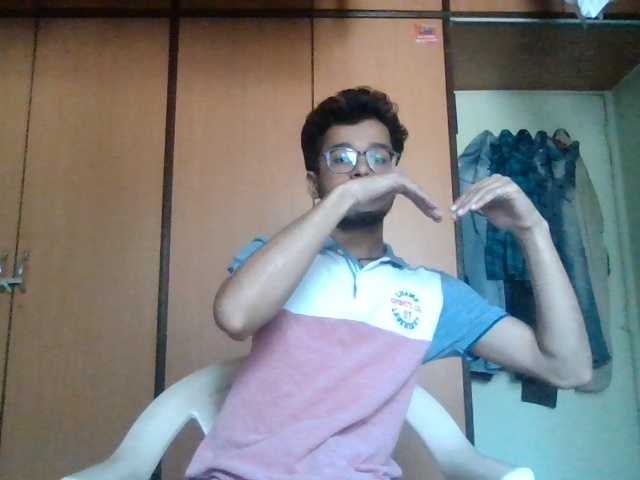we: (302, 172, 549, 281)
